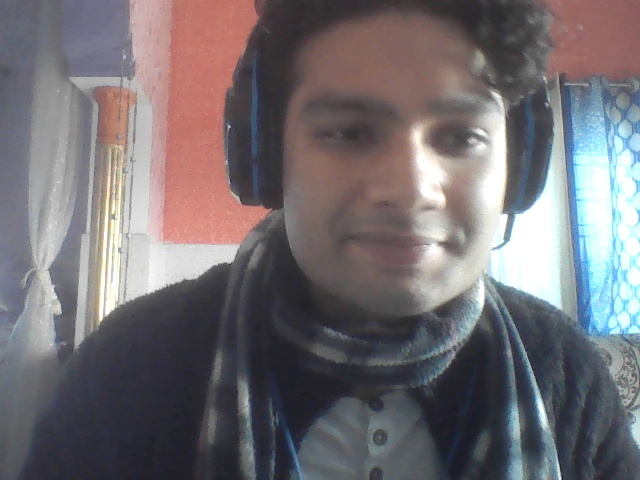real: (237, 0, 539, 428)
